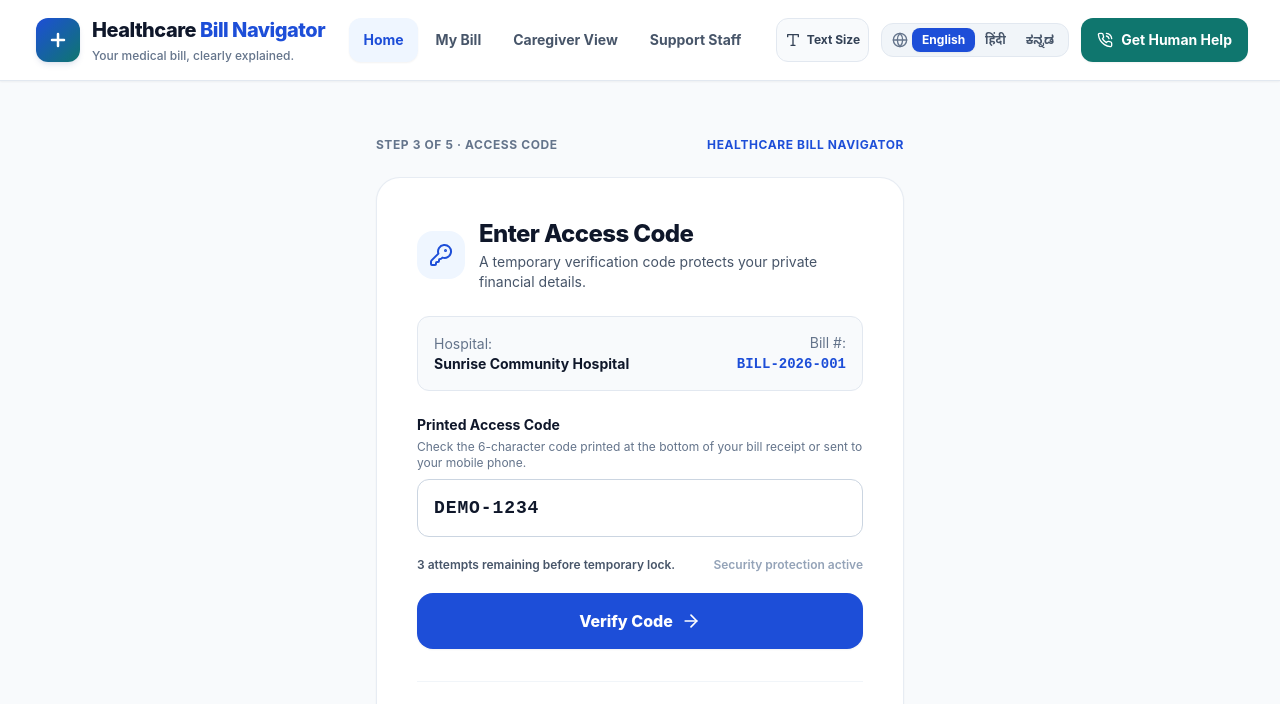
AccessCodePage › displays expired code state for EXPIRED
Step 1. Replace the text in the field labelled "Printed Access Code" with "EXPIRED" → (640, 508), box x1=417 y1=479 x2=863 y2=537
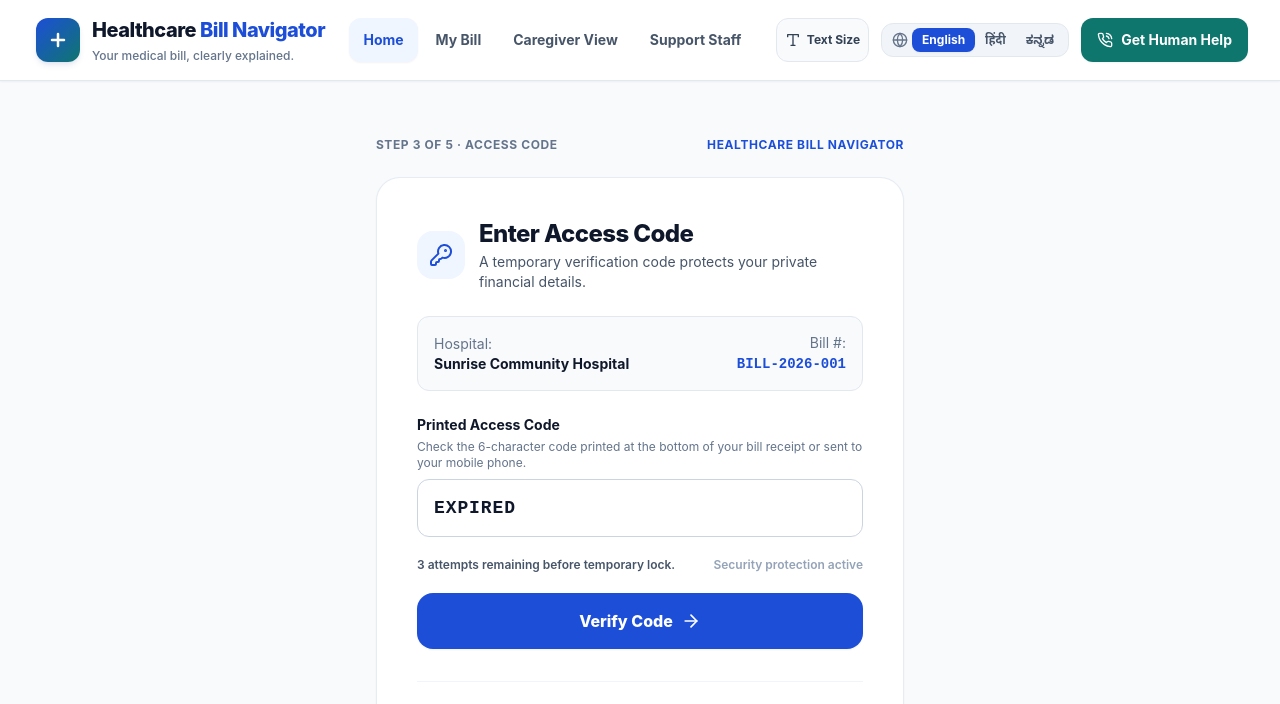
Step 2. Click the button "Verify Code" → (640, 621), box x1=417 y1=593 x2=863 y2=649
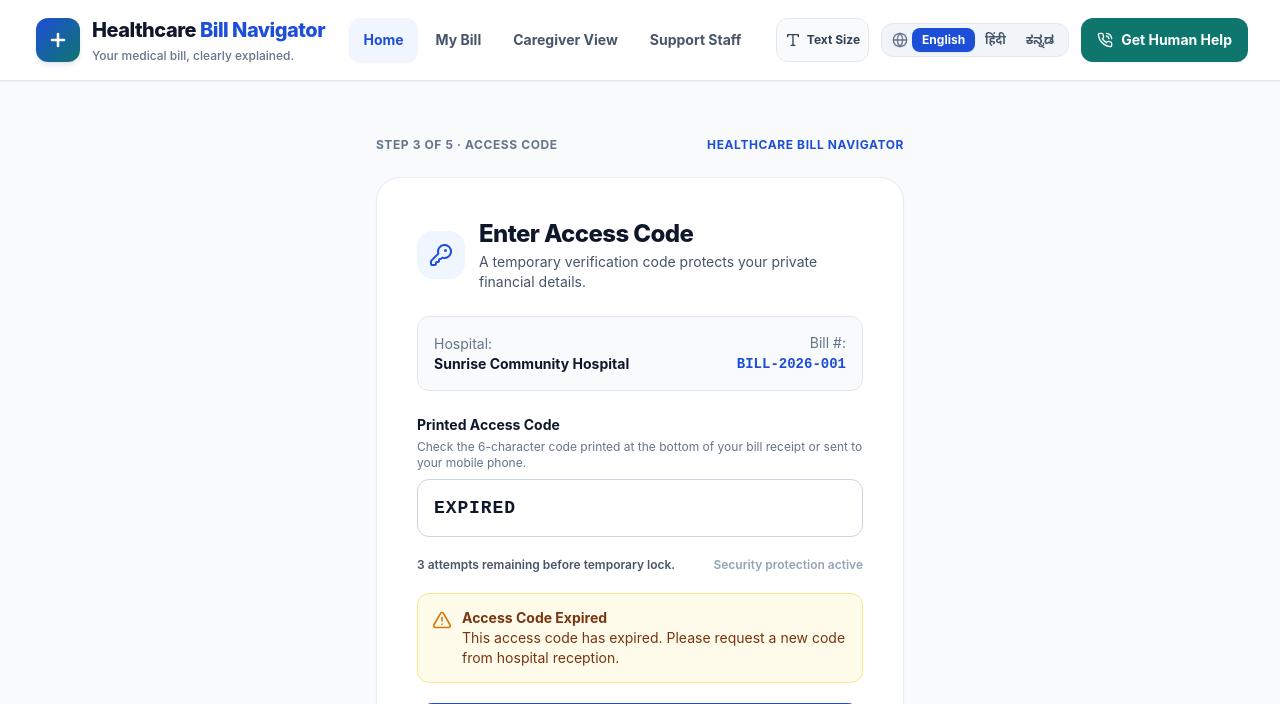
Expected: the text "Access Code Expired" is shown, x1=462 y1=609 x2=607 y2=626
Expected: the text "This access code has expired" is shown, x1=462 y1=629 x2=845 y2=666
